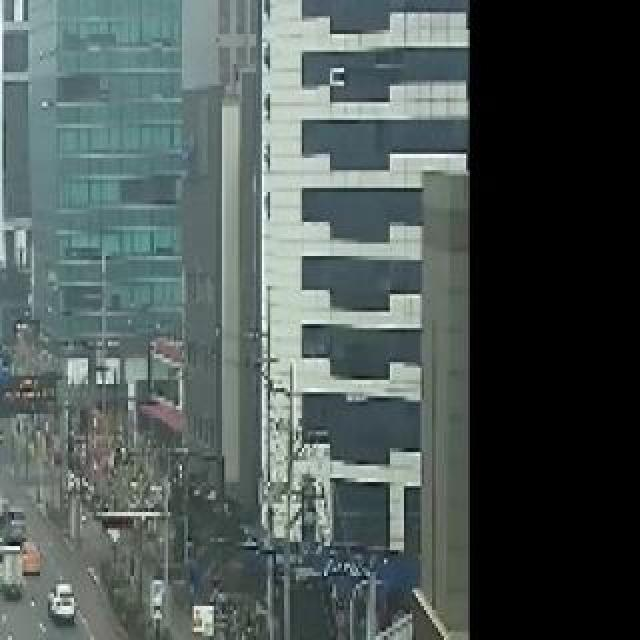truck: (0, 548, 26, 604), (18, 536, 44, 578), (0, 516, 4, 560)
